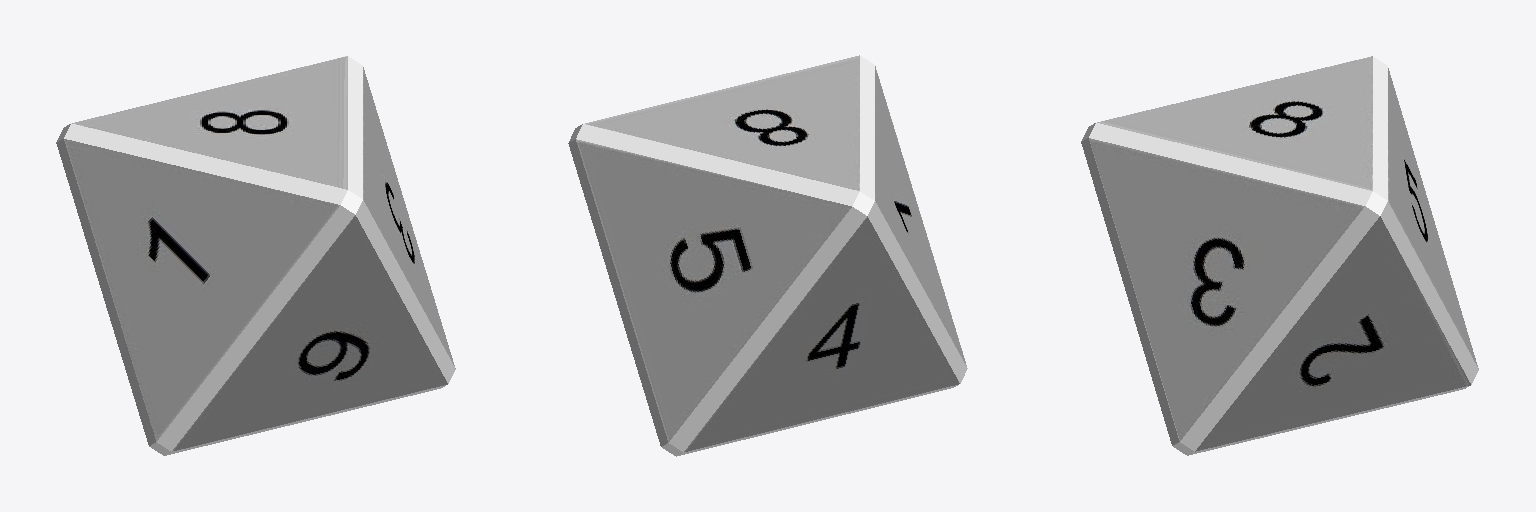
3 views of the same model, side by side, from view 1: azimuth 30°, elevation 25°; view 2: azimuth 150°, elevation 25°; view 3: azimuth 270°, elevation 25° (orthographic).
Parts seen in each view (by area): view 1: model_3; view 2: model_3; view 3: model_3.
Part boxes in pixels (bbox=[...]): model_3: bbox=[56, 56, 455, 455]; model_3: bbox=[568, 55, 967, 456]; model_3: bbox=[1081, 56, 1478, 455].
Size of the model in its own units: 7.44 by 6.34 by 8.57.
Materials: 1 (1 with a texture image).